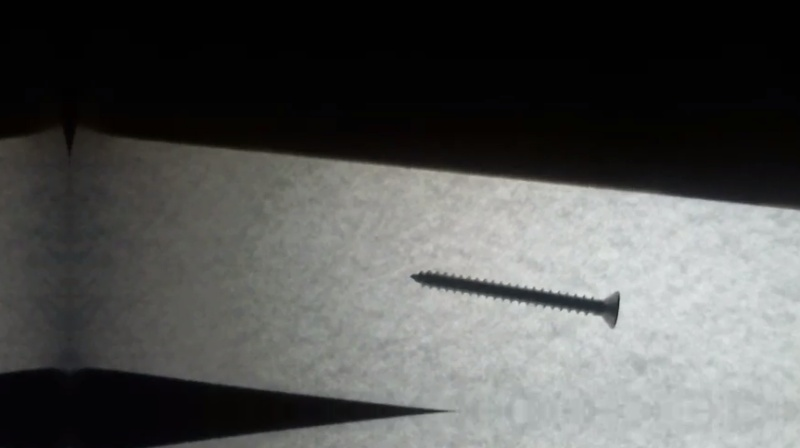S002: (406, 268, 622, 331)
